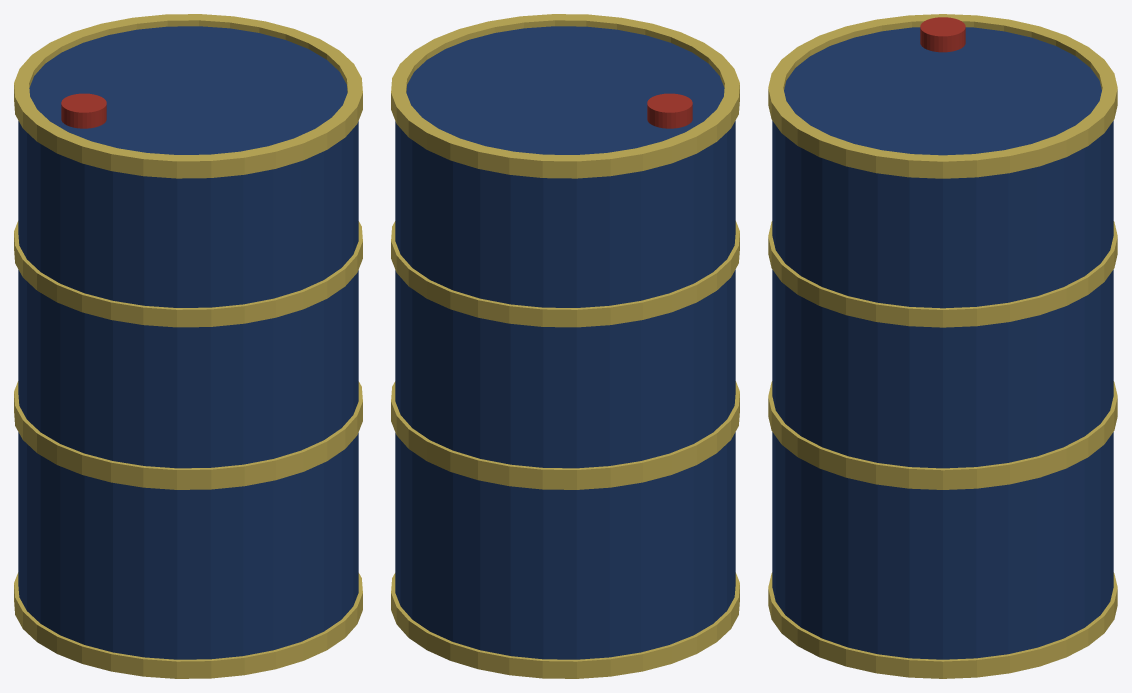
Rendered from iz_industrial_oil_tank_v2.fbx.
3 views of the same model, side by side, from view 1: azimuth 30°, elevation 25°; view 2: azimuth 150°, elevation 25°; view 3: azimuth 270°, elevation 25° (orthographic).
Visible parts, largest first — view 1: Cylinder; view 2: Cylinder; view 3: Cylinder.
Boxes of the visible parts, bbox=[...] form: Cylinder: bbox=[14, 14, 362, 678]; Cylinder: bbox=[391, 14, 739, 678]; Cylinder: bbox=[768, 14, 1117, 678].
Bounding box in the file's own units: 290 × 483 × 290.
